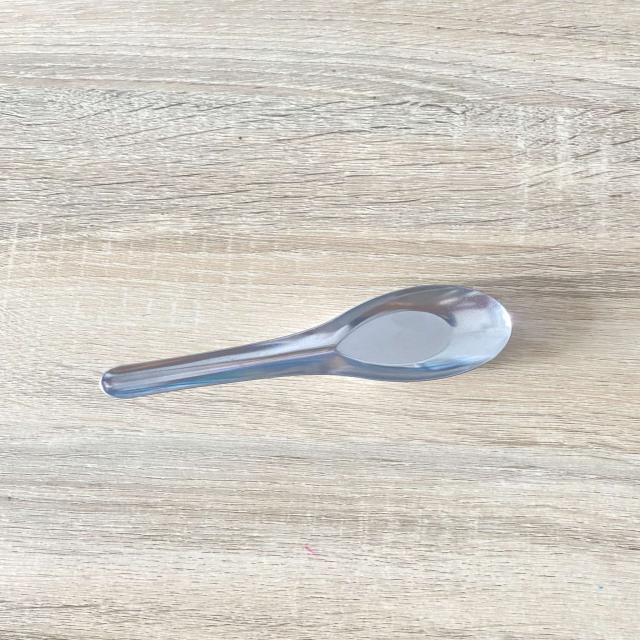short-spoon: (83, 276, 576, 408)
